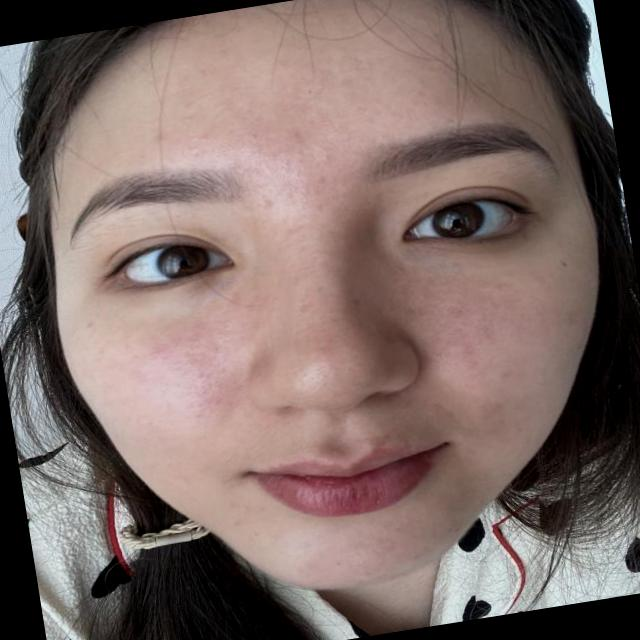acne: (486, 402, 509, 419), (259, 194, 281, 211), (316, 340, 334, 360), (457, 343, 472, 361), (195, 369, 210, 382)
blackhead: (309, 366, 356, 396), (296, 300, 315, 319), (321, 150, 341, 164), (446, 524, 462, 536), (314, 172, 326, 184), (250, 529, 262, 541), (410, 552, 424, 560), (334, 558, 343, 568)
